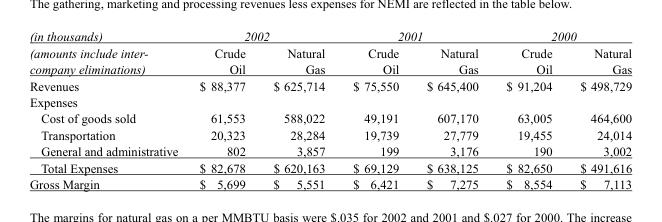table: (28, 28, 631, 190)
table column: (28, 28, 188, 190), (258, 28, 338, 190), (412, 28, 491, 190), (338, 28, 412, 190), (491, 28, 565, 190), (188, 28, 258, 190), (565, 28, 631, 190)
table column header: (28, 28, 631, 77)
table projected row header: (28, 93, 631, 109)
table row: (28, 44, 631, 77), (28, 109, 631, 126), (28, 142, 631, 159), (28, 28, 631, 44), (28, 77, 631, 93), (28, 93, 631, 109), (28, 126, 631, 142), (28, 159, 631, 175), (28, 175, 631, 190)
table spanning cell: (28, 28, 188, 77), (338, 28, 491, 44), (188, 28, 338, 44), (491, 28, 631, 44)
